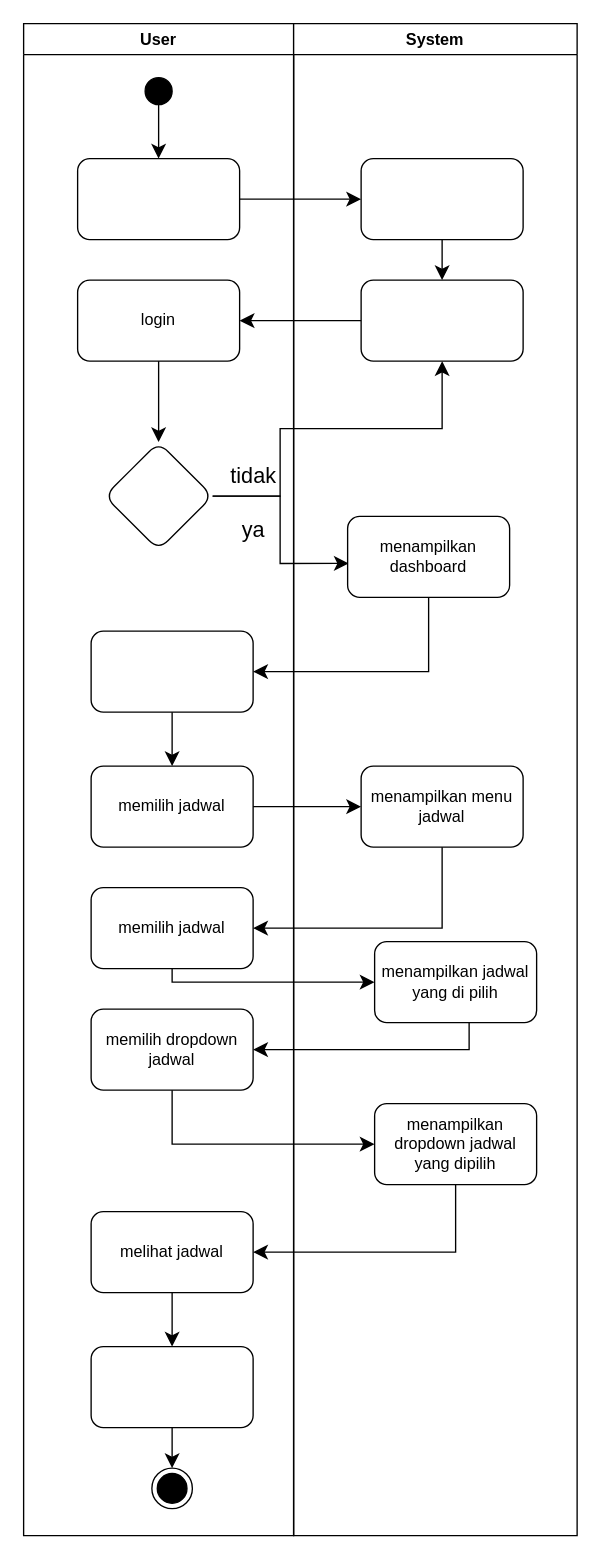
Image size: 601x1559. Some labels were removed from this diagram. The box of each missing label's shape, as (x1, y1, x2, y2) in pixels:
logout: (90, 1345, 253, 1428)
melihat menu: (90, 630, 253, 712)
membuka domain web: (76, 157, 240, 240)
menampilkan halaman login: (360, 279, 523, 361)
menampilkan halaman web: (360, 157, 523, 240)
verifikasi: (103, 441, 213, 550)
